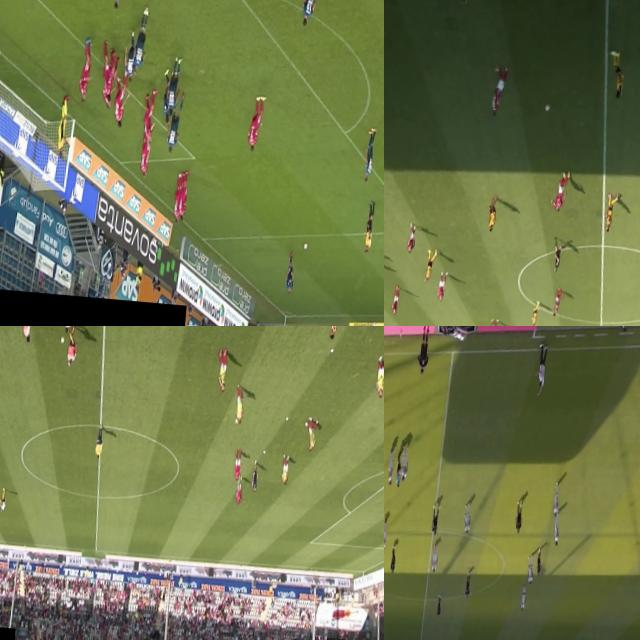ball: (542, 100, 550, 114), (58, 332, 65, 348), (302, 240, 308, 256), (302, 418, 308, 431), (233, 418, 238, 425)
player: (244, 93, 266, 154), (487, 62, 510, 120), (74, 38, 94, 104), (548, 164, 572, 217), (605, 46, 628, 100), (53, 96, 73, 156), (163, 100, 183, 155), (132, 14, 150, 68), (165, 59, 183, 112), (600, 190, 620, 237), (360, 124, 376, 182), (280, 248, 298, 296), (137, 130, 154, 180), (102, 60, 118, 109), (101, 46, 116, 98), (110, 80, 127, 124), (142, 88, 156, 140), (298, 0, 320, 32), (124, 31, 138, 80), (422, 245, 438, 284), (160, 72, 172, 123), (216, 353, 230, 396), (548, 478, 563, 515), (548, 512, 562, 551), (177, 172, 187, 226), (170, 182, 182, 226), (232, 386, 245, 426), (513, 496, 526, 536), (400, 444, 412, 486), (372, 359, 384, 400), (486, 193, 498, 233), (385, 538, 398, 574), (384, 448, 396, 486), (233, 475, 246, 509), (435, 270, 448, 302), (429, 504, 442, 536), (552, 284, 564, 318), (524, 552, 536, 586), (406, 219, 417, 254), (232, 450, 243, 484), (428, 544, 440, 575), (66, 334, 76, 371), (462, 501, 472, 537), (391, 284, 402, 316), (323, 326, 341, 345), (306, 421, 317, 452), (280, 451, 288, 491), (529, 298, 540, 326), (517, 584, 527, 614), (463, 570, 473, 599), (532, 550, 542, 579), (434, 591, 444, 618), (20, 326, 33, 344), (0, 489, 6, 516), (384, 522, 389, 551), (488, 316, 498, 326)
